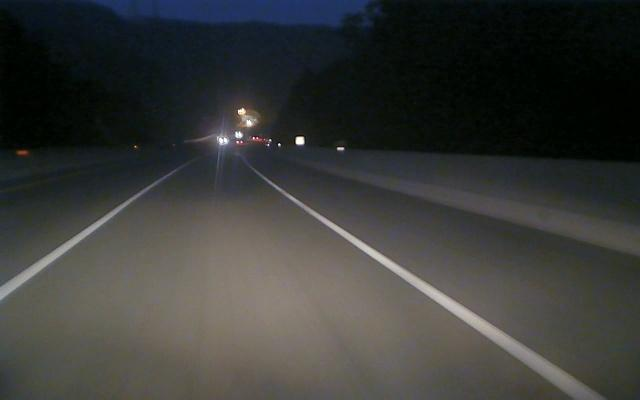lane: (267, 181, 611, 400), (0, 174, 168, 302)
